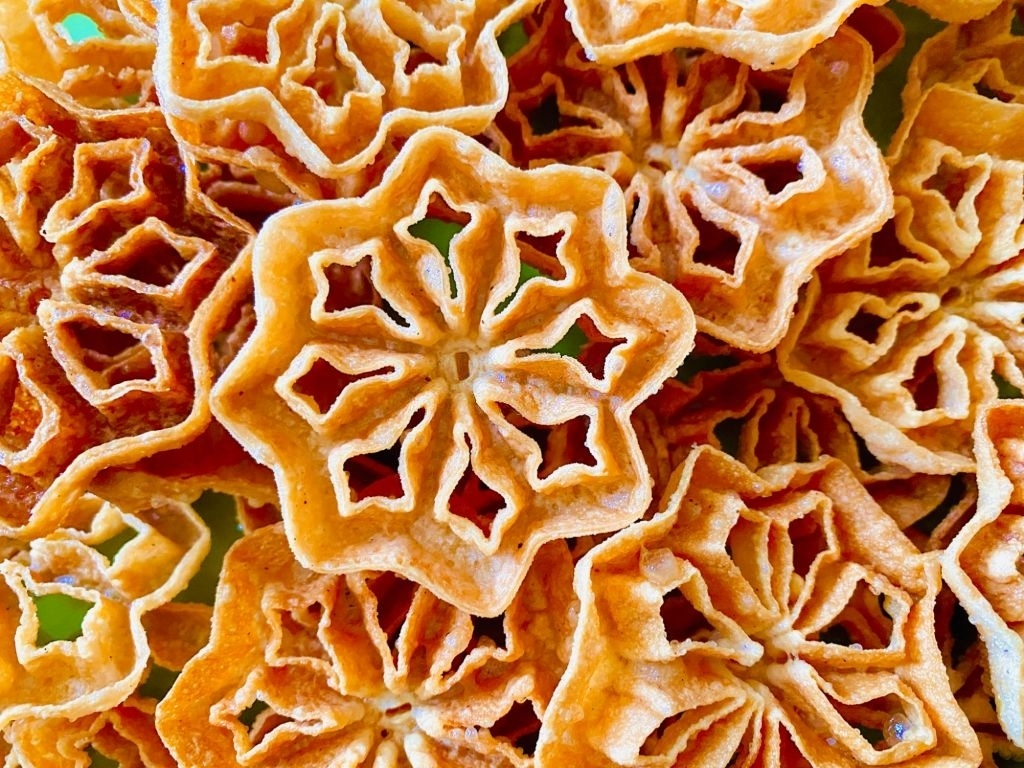kembang_goyang: (207, 124, 685, 610)
